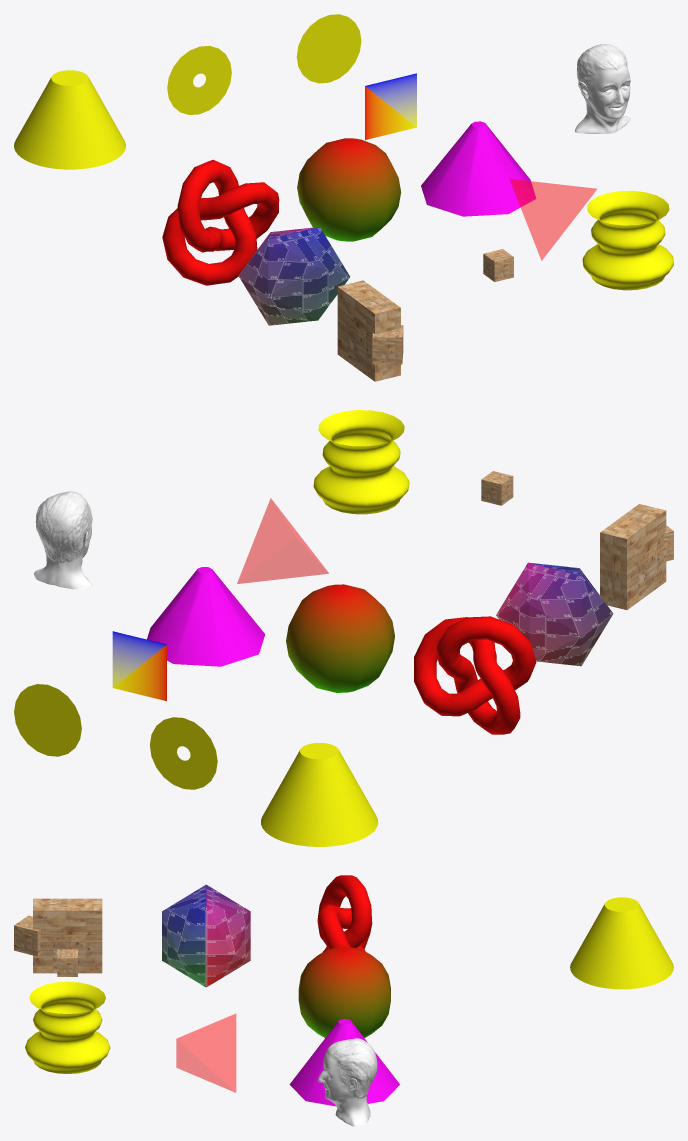
3 views of the same model, one above another, from view 1: azimuth 30°, elevation 25°; view 2: azimuth 150°, elevation 25°; view 3: azimuth 270°, elevation 25° (orthographic). The views are drawn at different scales.
Parts seen in each view (by area): view 1: Cylinder (×2), Sphere, Icosahedron, object 12, object 13, Cube, Mesh_Mesh_head_geo.001_lambert2SG.001, Tetrahedron, object 10, object 11, Custom buffered truncated, SubCube (+1 smaller); view 2: Cylinder (×2), Sphere, object 12, object 13, Icosahedron, Cube, Mesh_Mesh_head_geo.001_lambert2SG.001, Tetrahedron, object 10, object 11, Custom buffered truncated, Cube in group; view 3: Icosahedron, Sphere, object 12, object 13, Cylinder (×2), Cube, Mesh_Mesh_head_geo.001_lambert2SG.001, Tetrahedron, SubCube, Cube in group.
Boxes of the visible parts, x1,y1,x2,y2 form: Cylinder (×2): [162, 121, 536, 285]; Sphere: [297, 138, 401, 241]; Icosahedron: [238, 227, 349, 325]; object 12: [14, 70, 125, 169]; object 13: [582, 190, 673, 290]; Cube: [337, 280, 400, 381]; Mesh_Mesh_head_geo.001_lambert2SG.001: [575, 44, 630, 133]; Tetrahedron: [509, 179, 596, 260]; object 10: [296, 14, 361, 83]; object 11: [167, 45, 231, 114]; Custom buffered truncated: [365, 73, 416, 139]; SubCube: [372, 325, 403, 364]; Cylinder (×2): [147, 567, 536, 734]; Sphere: [286, 584, 394, 692]; object 12: [261, 743, 378, 846]; object 13: [313, 410, 409, 514]; Icosahedron: [496, 562, 613, 666]; Cube: [600, 504, 666, 609]; Mesh_Mesh_head_geo.001_lambert2SG.001: [34, 491, 92, 589]; Tetrahedron: [237, 498, 328, 583]; object 10: [14, 684, 81, 756]; object 11: [150, 717, 217, 789]; Custom buffered truncated: [112, 631, 166, 701]; Cube in group: [481, 471, 513, 505]; Icosahedron: [162, 884, 250, 987]; Sphere: [298, 946, 390, 1037]; object 12: [570, 897, 673, 989]; object 13: [25, 981, 110, 1073]; Cylinder (×2): [289, 875, 399, 1106]; Cube: [33, 898, 102, 973]; Mesh_Mesh_head_geo.001_lambert2SG.001: [317, 1038, 377, 1126]; Tetrahedron: [176, 1013, 236, 1092]; SubCube: [14, 915, 40, 956]; Cube in group: [57, 949, 77, 976].
Size of the model in its own units: 717 by 198 by 953.
9 materials, 3 textured.
